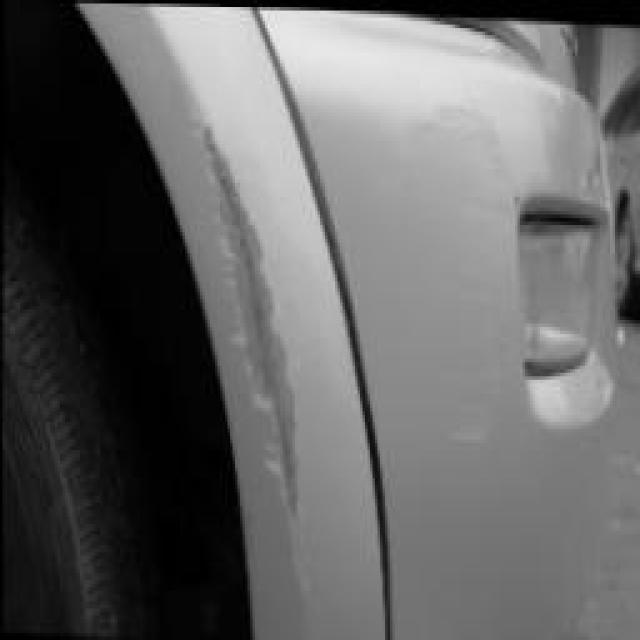Fender: (182, 84, 312, 569)
